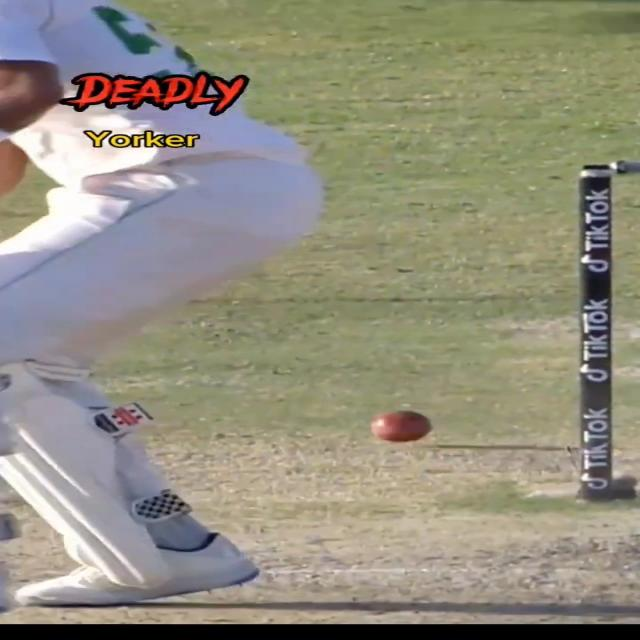Cricket ball: (366, 408, 436, 443)
